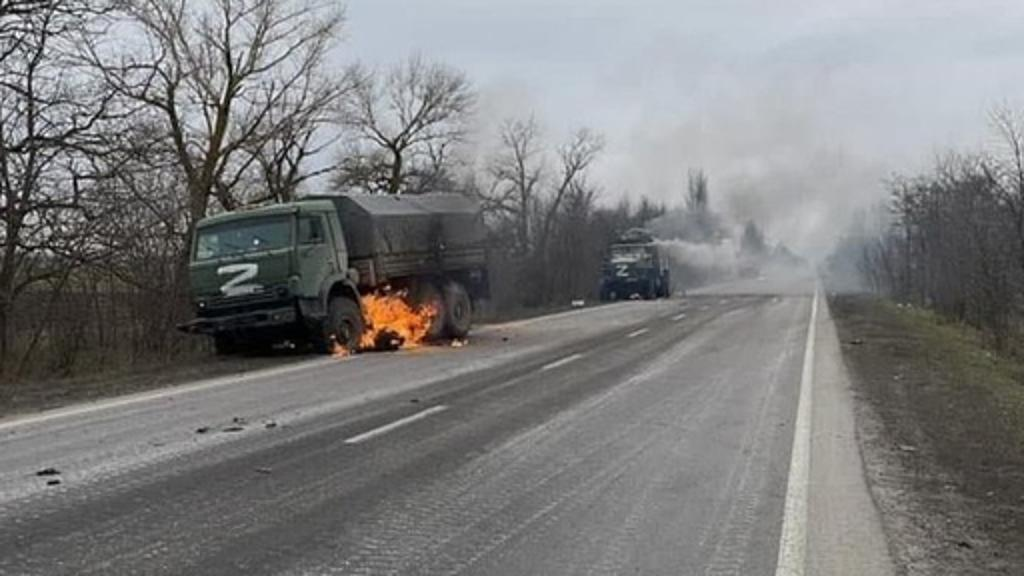TRUCK: (170, 180, 490, 376), (592, 220, 678, 306)
